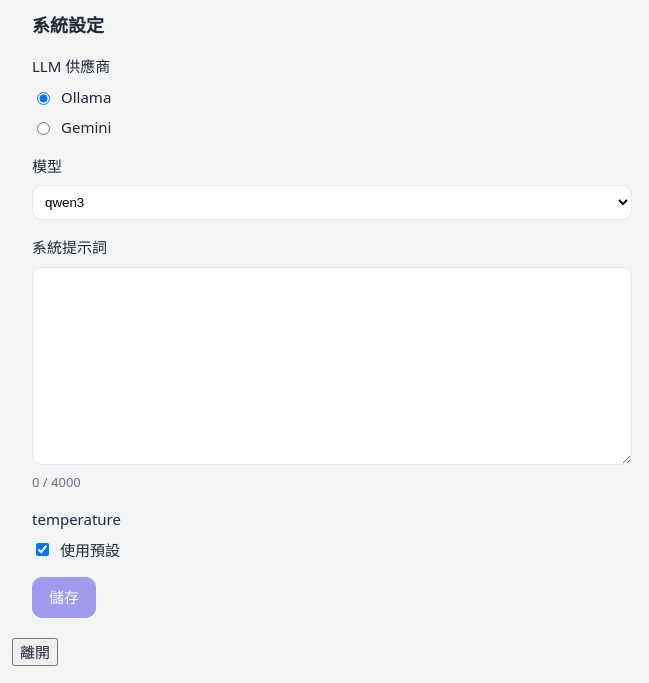
Test: SettingsPage › switching provider fetches that provider's models
Expected: the dropdown labelled "模型" is shown, left=32, top=185, right=632, bottom=220
Step 1. Click the radio button labelled "Gemini" → (44, 129), box left=37, top=122, right=50, bottom=135
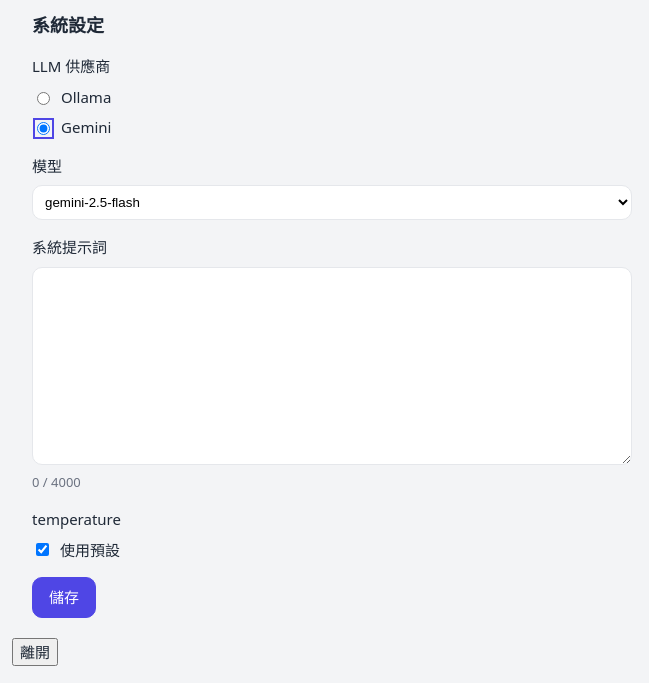
Now the dropdown labelled "模型" shows "gemini-2.5-flash", box left=32, top=185, right=632, bottom=220
